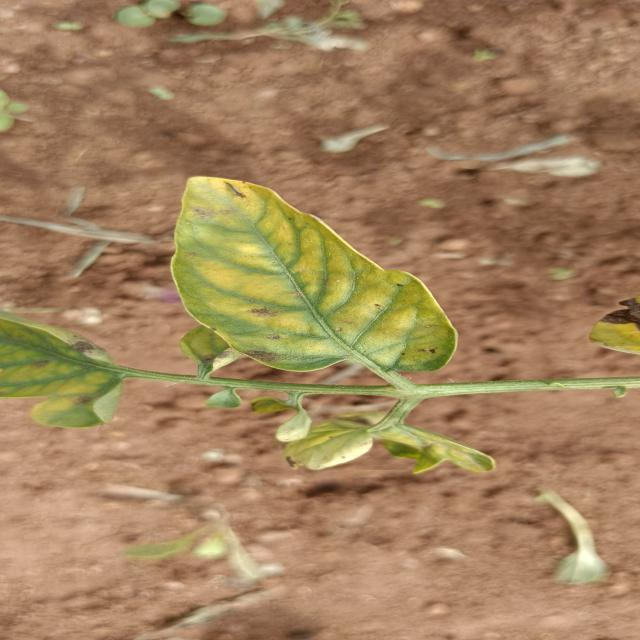tomato_early blight: (170, 176, 456, 374), (262, 406, 512, 479), (0, 312, 124, 430)
